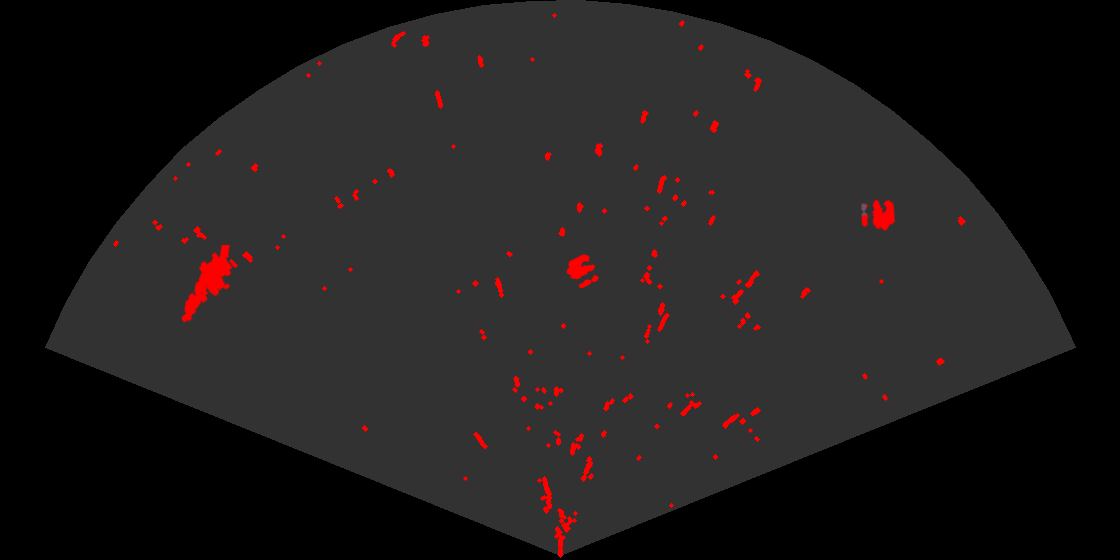ball: (565, 253, 601, 290), (859, 198, 897, 232)
frogman: (180, 245, 234, 324)
